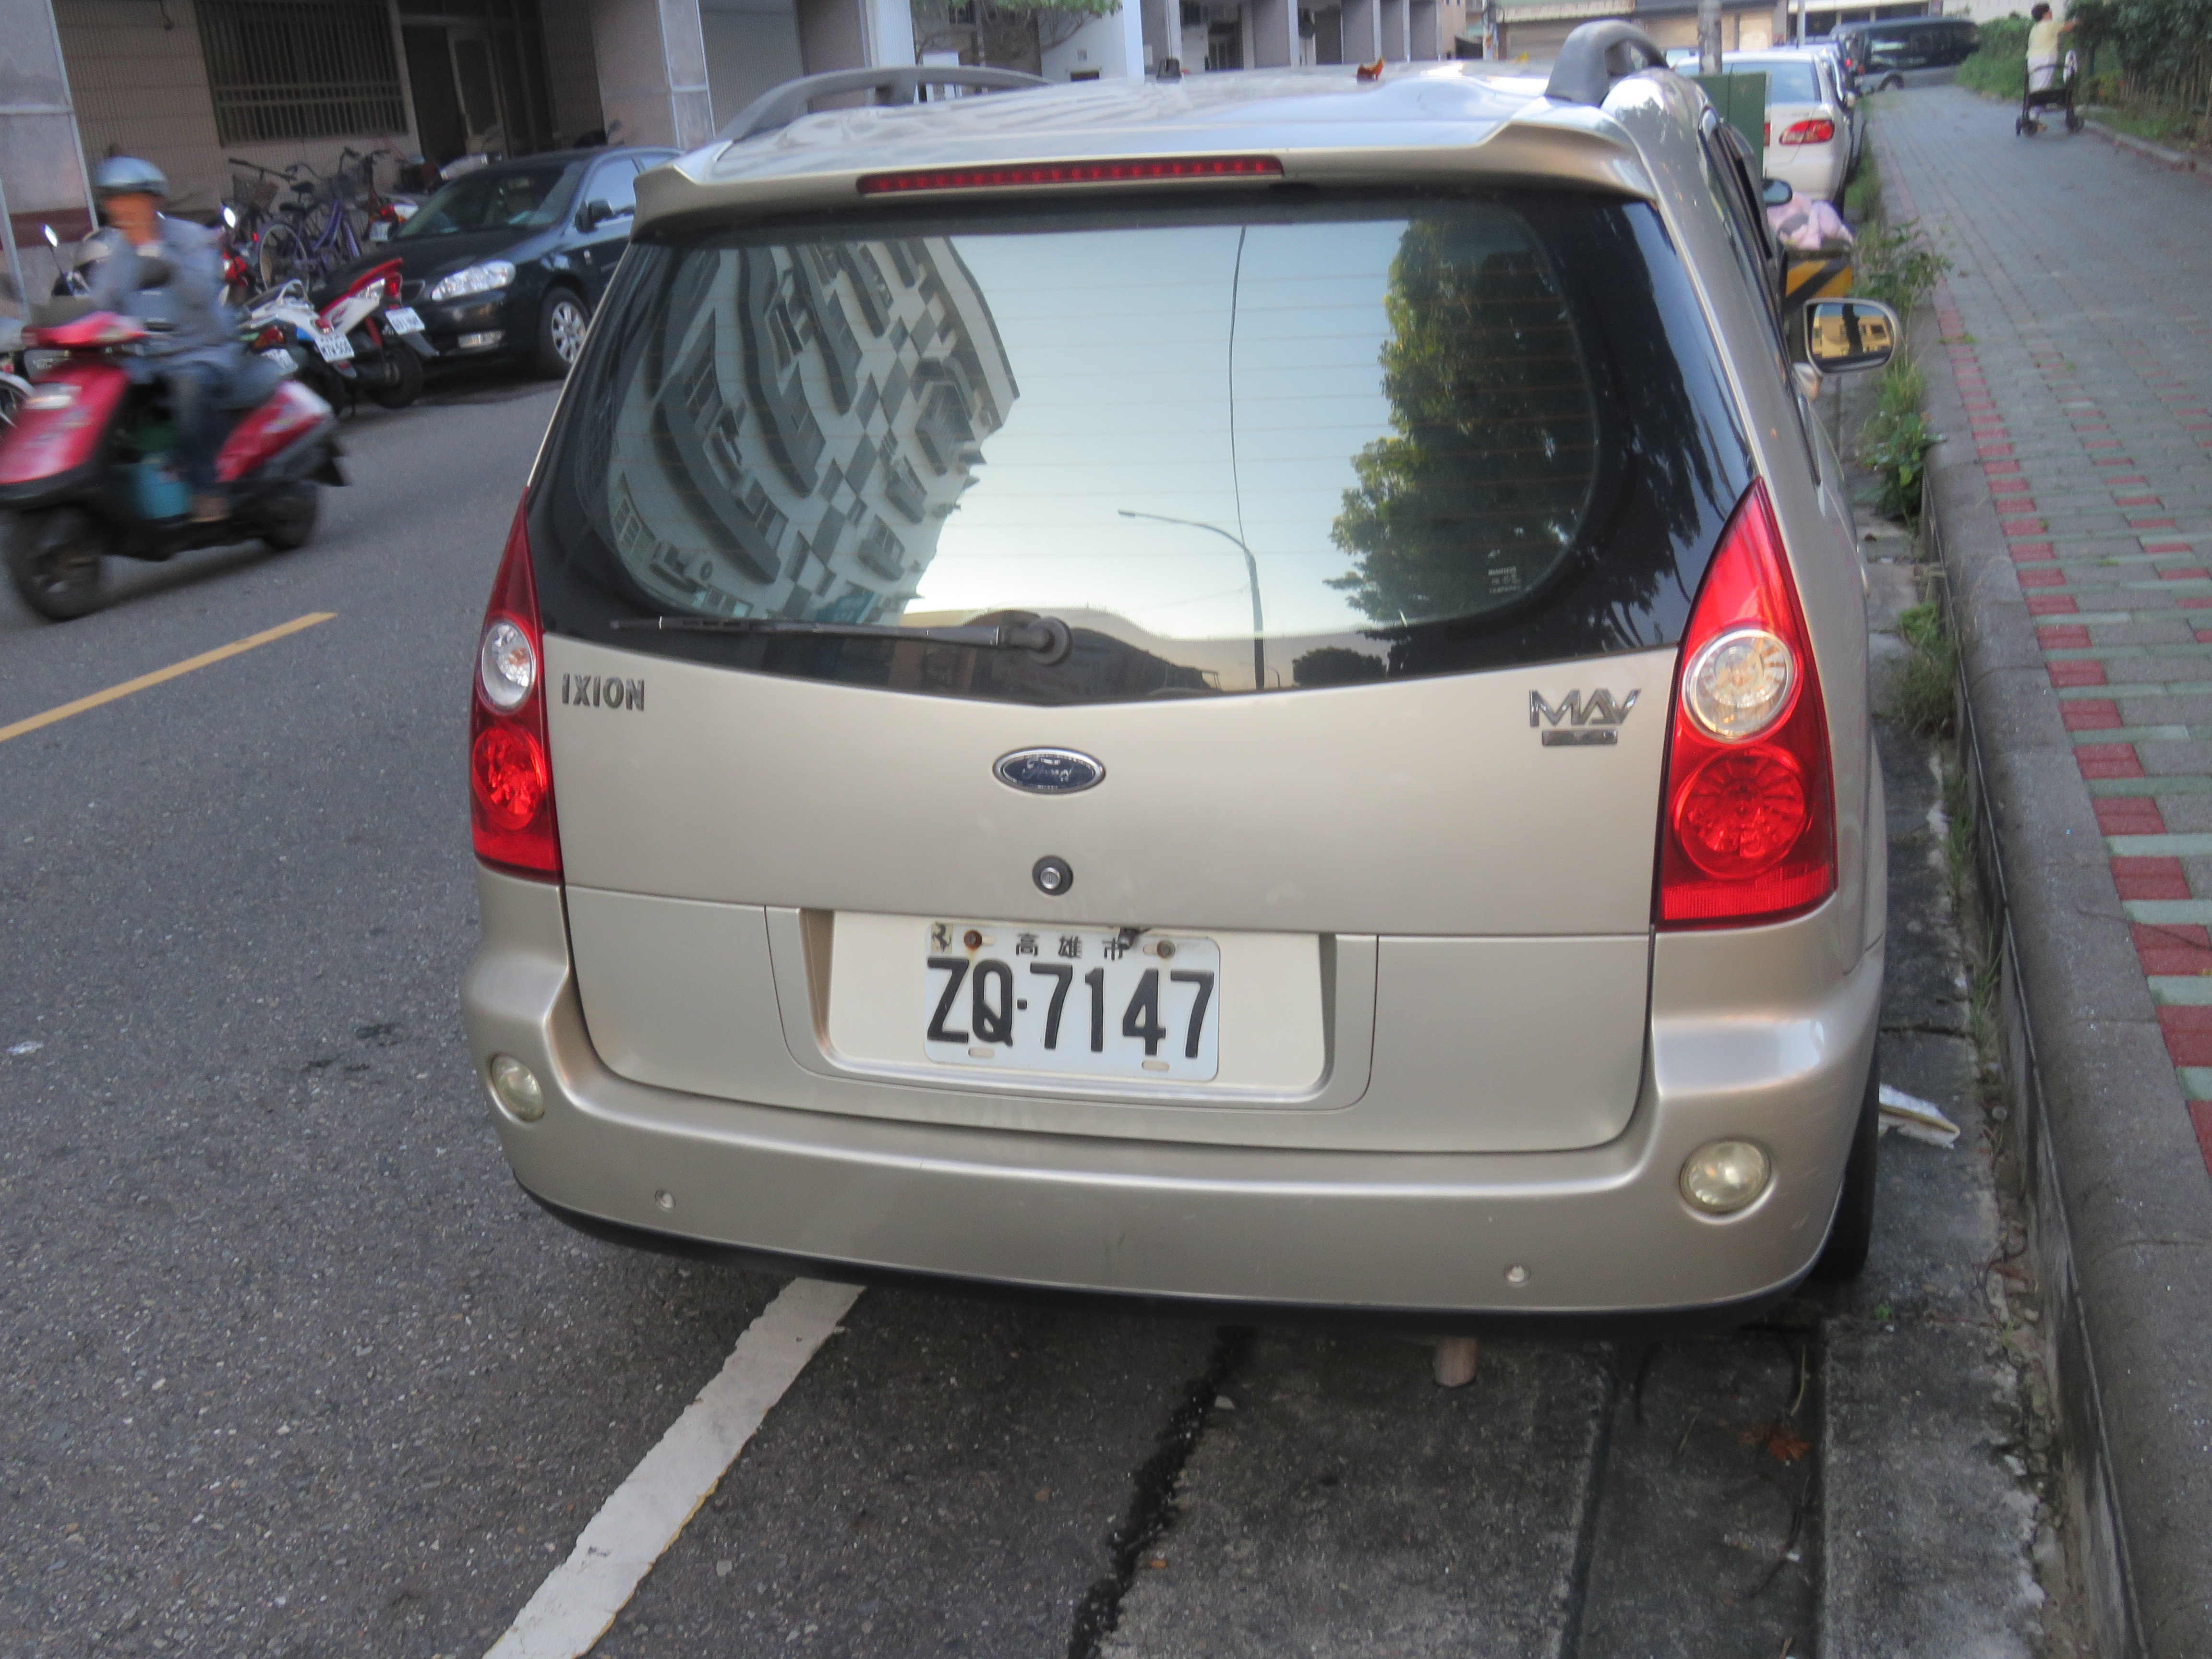car: (458, 63, 1892, 1328), (1663, 45, 1850, 211)
car_card: (920, 920, 1224, 1087), (383, 303, 441, 343), (319, 331, 359, 364)
moto: (282, 305, 387, 413), (362, 268, 444, 396)
